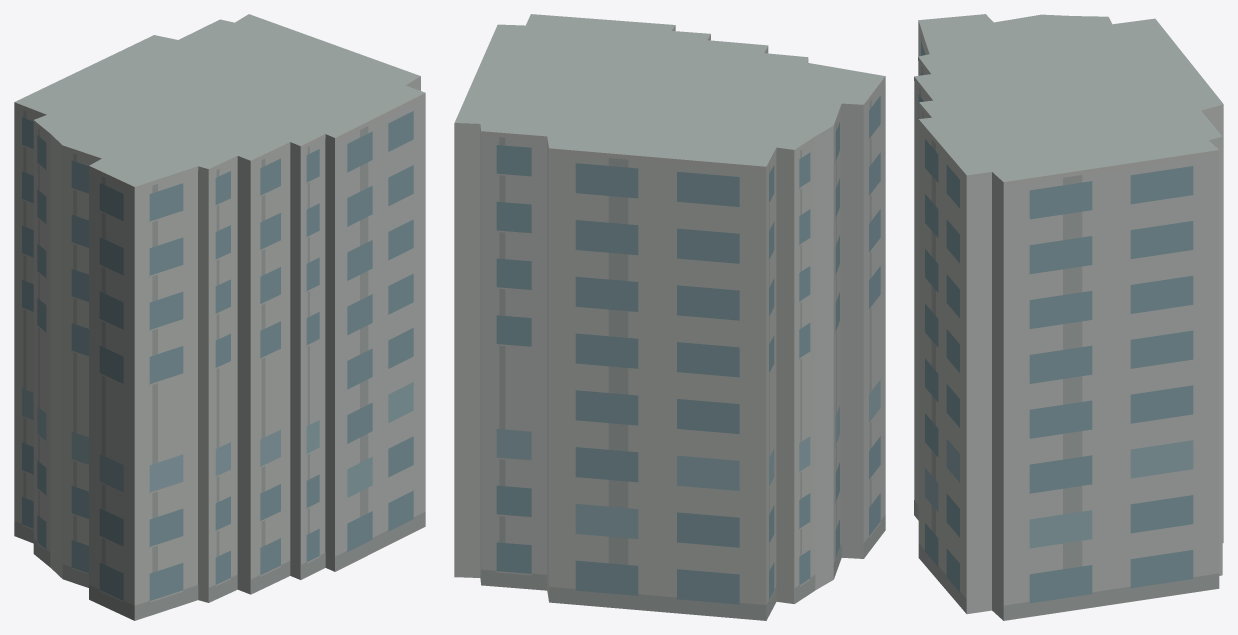
Rendered from survey-upis-32704189.glb.
The picture shows the model from 3 angles, left to right: view 1: azimuth 30°, elevation 25°; view 2: azimuth 150°, elevation 25°; view 3: azimuth 270°, elevation 25°; orthographic projection. The views are drawn at different scales.
Parts seen in each view (by area): view 1: survey-upis-32704189.tmp; view 2: survey-upis-32704189.tmp; view 3: survey-upis-32704189.tmp.
Part boxes in pixels (x1=…): survey-upis-32704189.tmp: x1=14, y1=14, x2=425, y2=620; survey-upis-32704189.tmp: x1=454, y1=14, x2=885, y2=620; survey-upis-32704189.tmp: x1=914, y1=14, x2=1223, y2=620.
Bounding box in the file's own units: 19.58 × 23.8 × 15.23.
